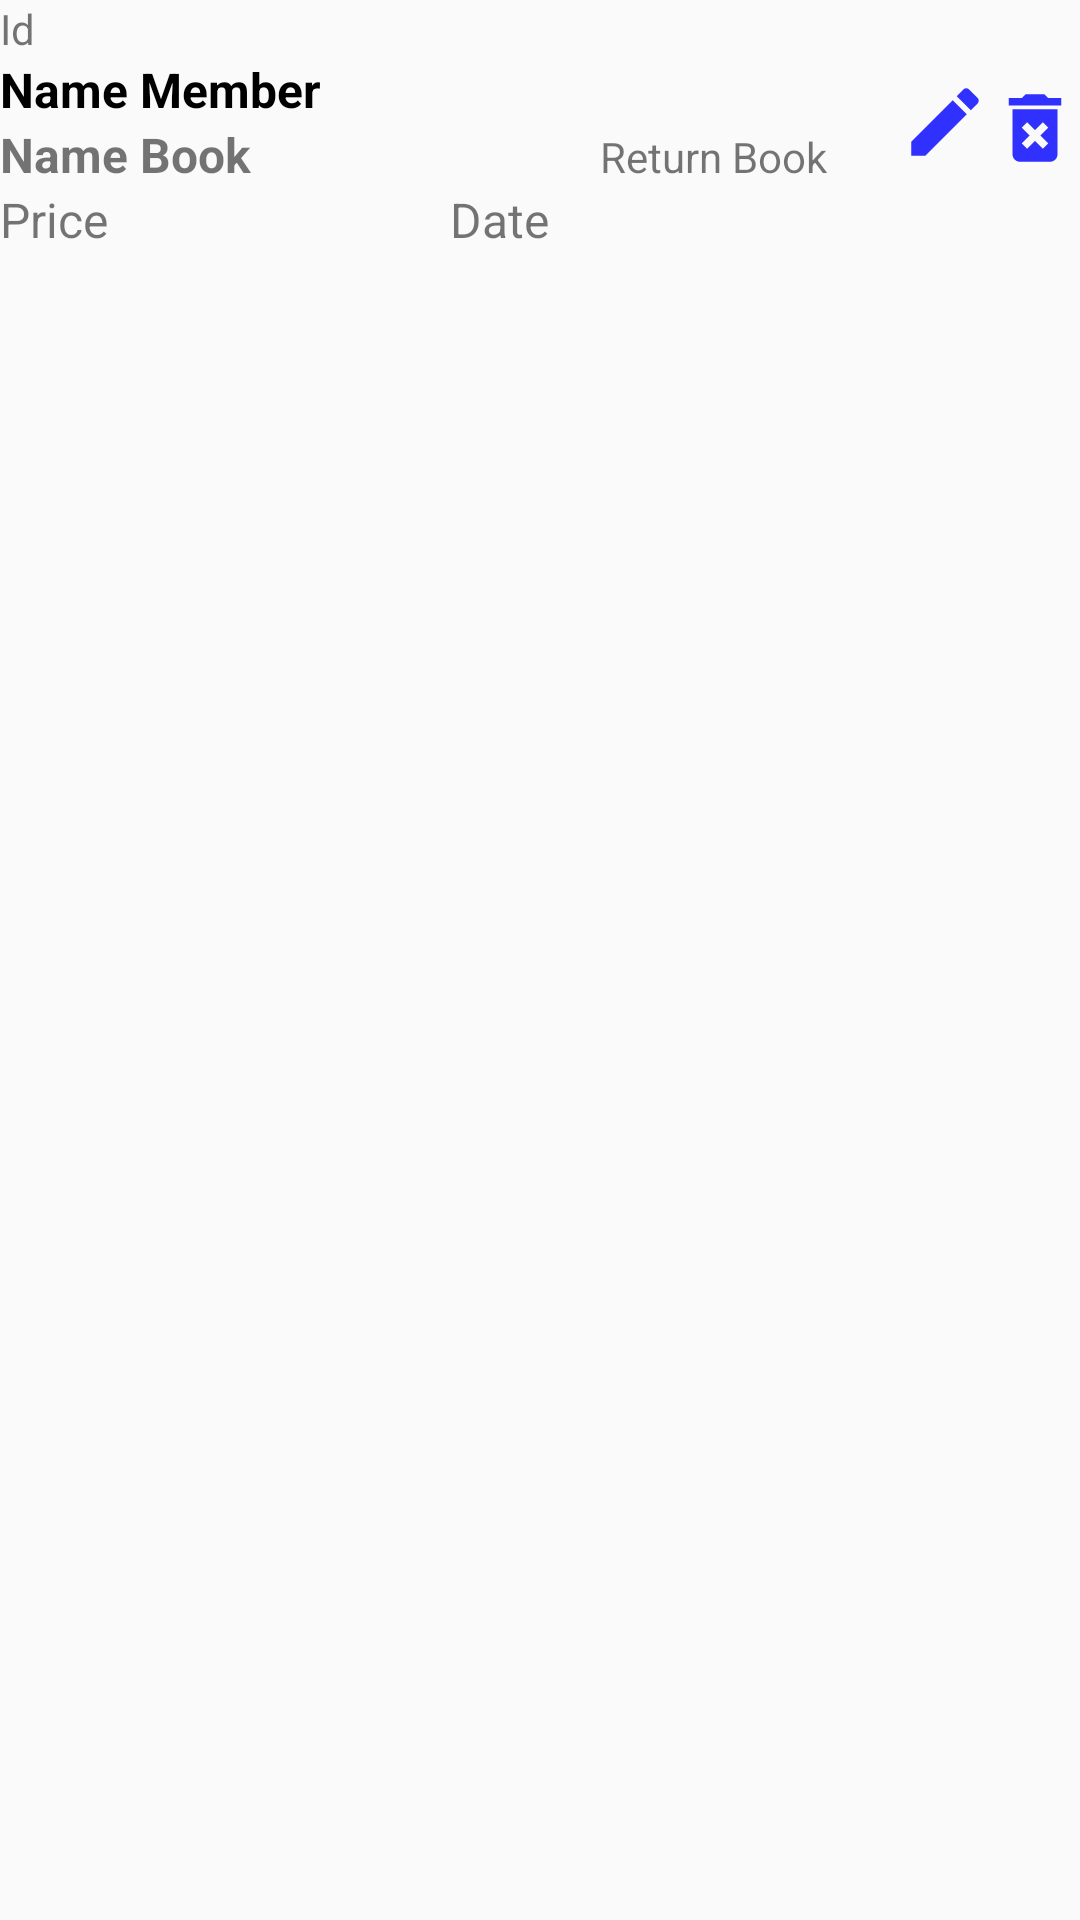

Screen size 1080 × 1920. Icon name, then its box in pixels as bbox=[x1, y1, x2, y2]:
delete: bbox=[1008, 94, 1062, 162]
edit: bbox=[911, 88, 979, 156]
